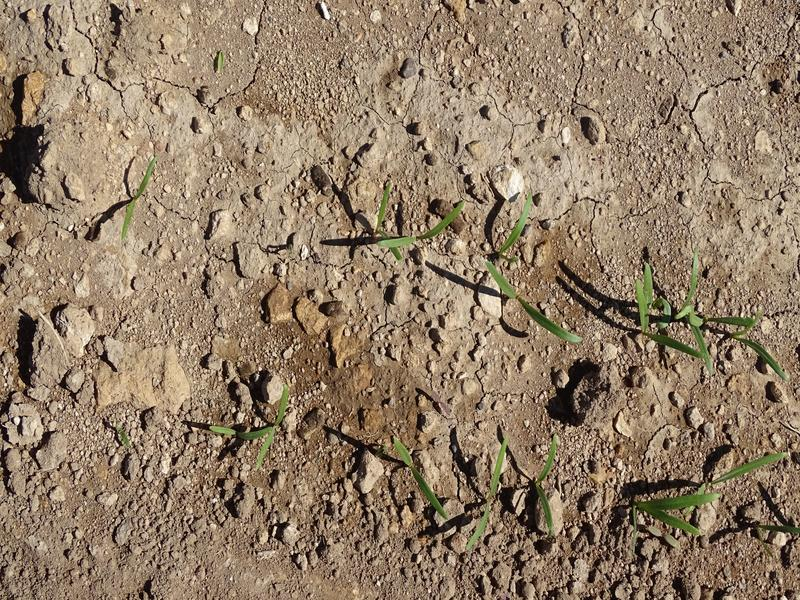Espinaca: (627, 253, 793, 384), (482, 195, 582, 350), (632, 449, 788, 534), (364, 180, 462, 264), (212, 380, 291, 470), (462, 435, 515, 553), (391, 437, 454, 522), (527, 435, 564, 539), (116, 159, 161, 243)
